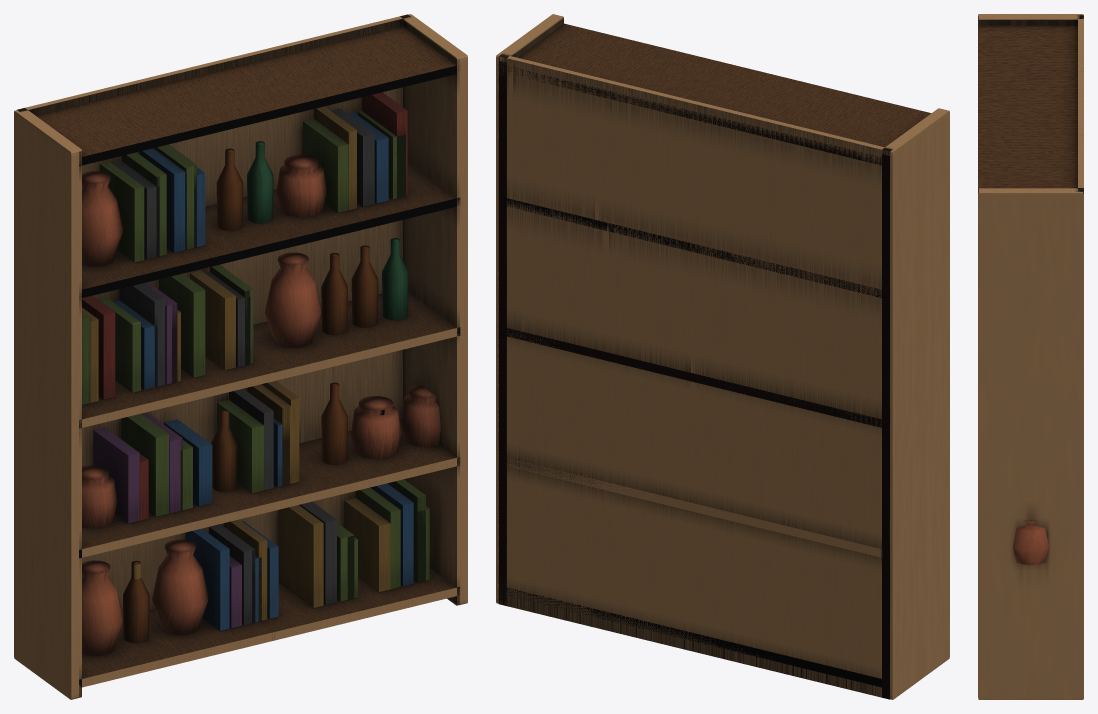
Rendered from movel_prateleira.glb.
3 renders of one model, left to right at view 1: azimuth 30°, elevation 25°; view 2: azimuth 150°, elevation 25°; view 3: azimuth 270°, elevation 25°, orthographic. The views are drawn at different scales.
Parts seen in each view (by area): view 1: movel_prateleira; view 2: movel_prateleira; view 3: movel_prateleira.
Boxes of the visible parts, x1=… form: movel_prateleira: x1=14, y1=14, x2=467, y2=699; movel_prateleira: x1=496, y1=14, x2=949, y2=699; movel_prateleira: x1=978, y1=14, x2=1083, y2=699.
Bounding box in the file's own units: 1.47 × 1.9 × 0.36.
Materials: 1 (1 with a texture image).
